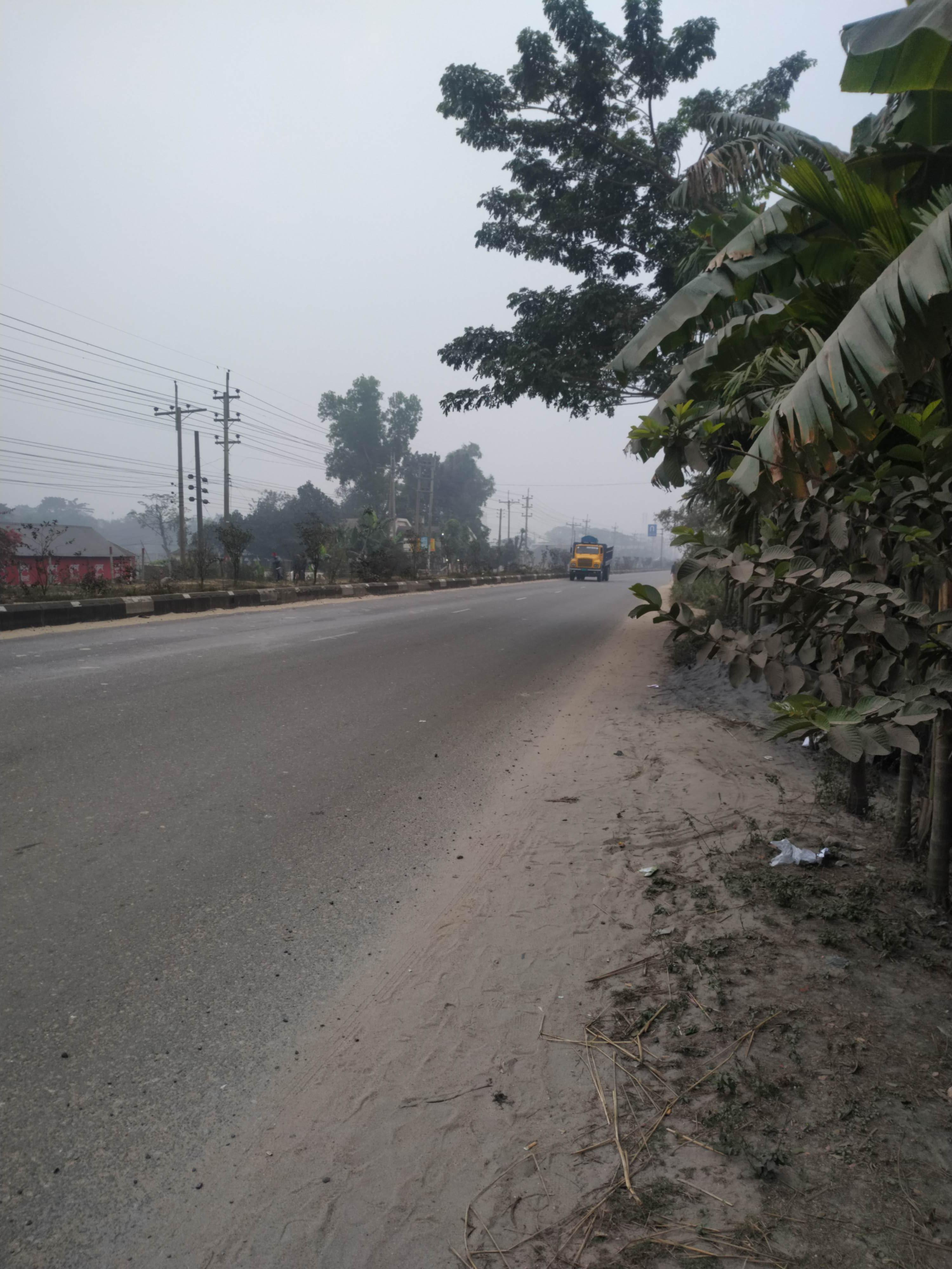Truck: (551, 531, 629, 601)
